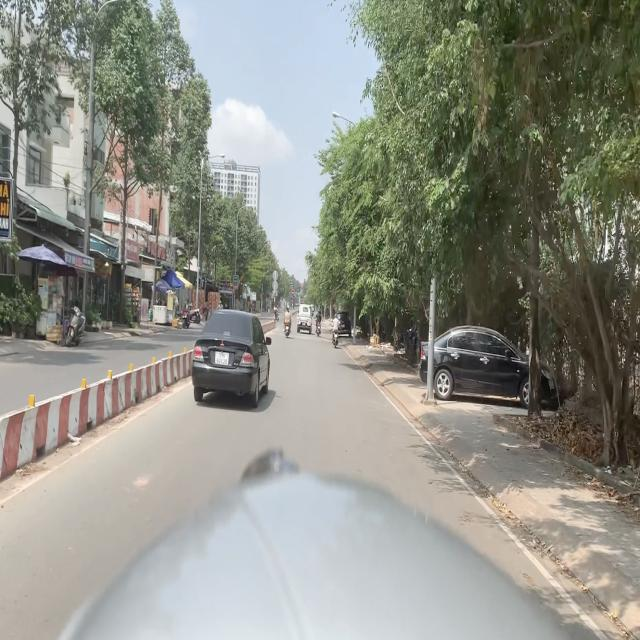Cam nguoc chieu: (291, 290, 294, 296)
Hieu lenh: (291, 295, 294, 300)
